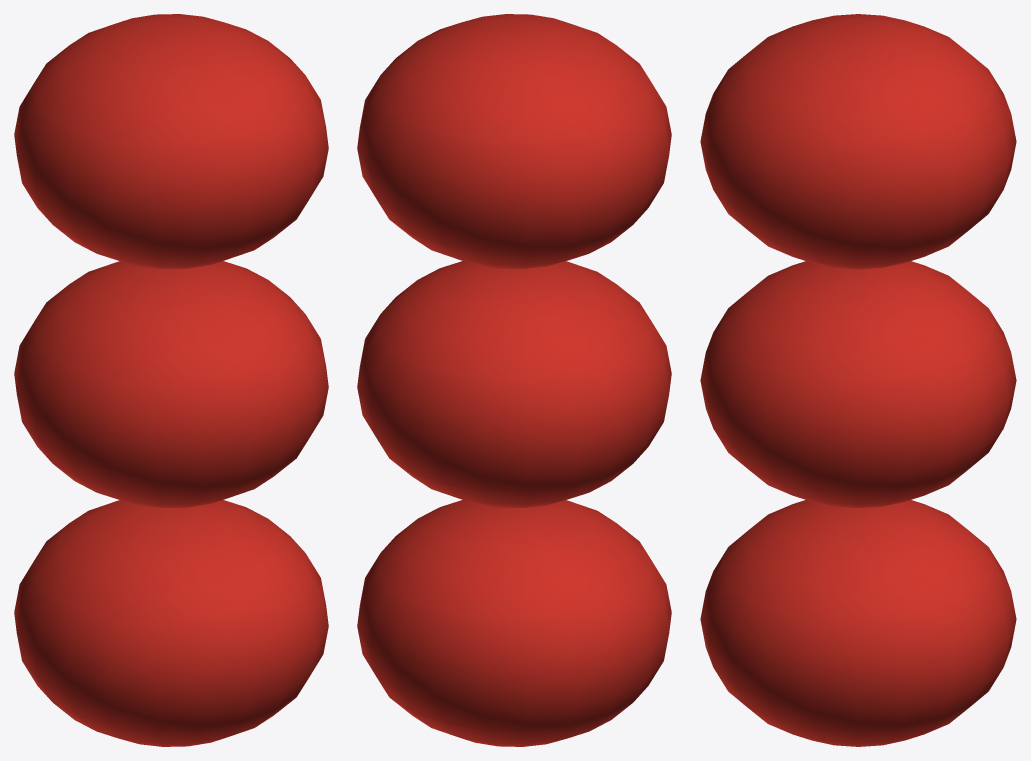
Rendered from 7-painted-counting-beads-2.fbx.
3 renders of one model, left to right at view 1: azimuth 30°, elevation 25°; view 2: azimuth 150°, elevation 25°; view 3: azimuth 270°, elevation 25°, orthographic.
Visible parts, largest first — view 1: painted-counting-beads-2; view 2: painted-counting-beads-2; view 3: painted-counting-beads-2.
Boxes of the visible parts, x1,y1,x2,y2 form: painted-counting-beads-2: (14, 14, 328, 746); painted-counting-beads-2: (357, 14, 671, 746); painted-counting-beads-2: (700, 14, 1016, 746).
Size of the model in its own units: 840 by 2038 by 840.
Materials: 1 (1 with a texture image).
